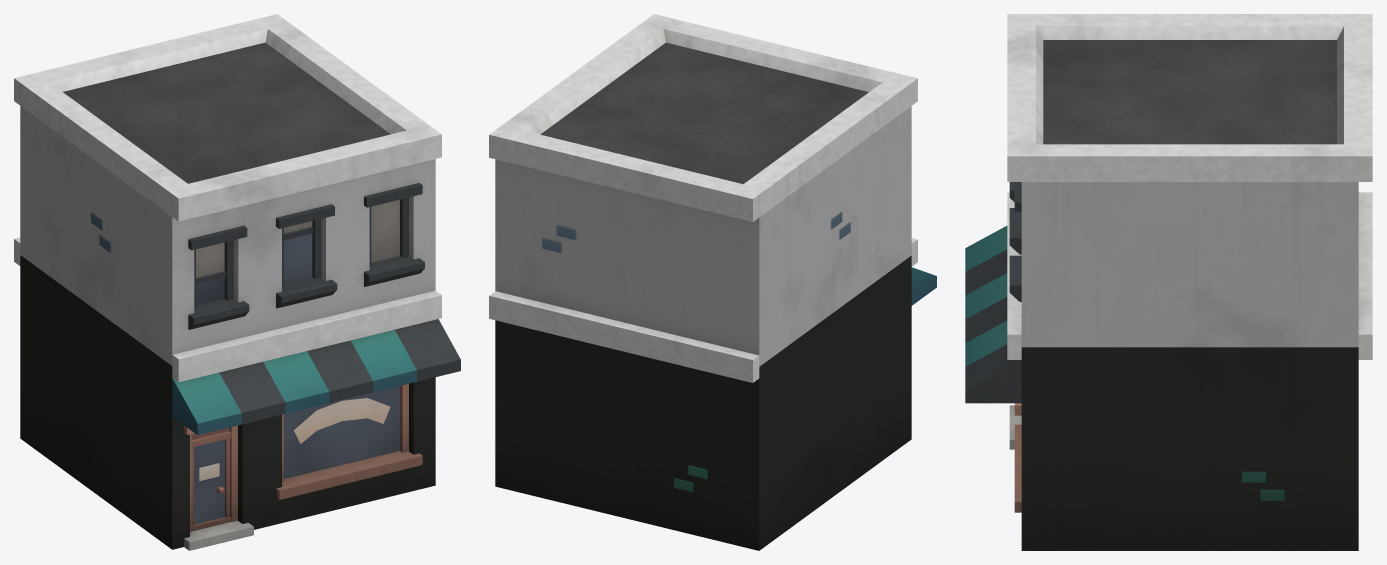
File: building_A.glb
3 views of the same model, side by side, from view 1: azimuth 30°, elevation 25°; view 2: azimuth 150°, elevation 25°; view 3: azimuth 270°, elevation 25° (orthographic). The views are drawn at different scales.
Parts seen in each view (by area): view 1: building_A_withoutBase; view 2: building_A_withoutBase; view 3: building_A_withoutBase.
Part boxes in pixels (left/top/right/bottom): building_A_withoutBase: left=14, top=14, right=460, bottom=550; building_A_withoutBase: left=489, top=14, right=936, bottom=550; building_A_withoutBase: left=965, top=14, right=1372, bottom=550.
Size of the model in its own units: 1.21 by 1.55 by 1.45.
2 materials, 2 textured.
